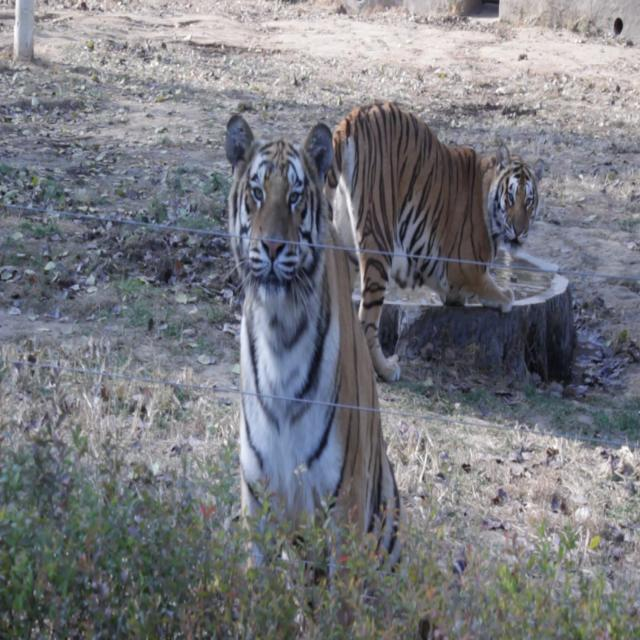Tiger: (222, 105, 407, 592), (324, 94, 539, 404)
